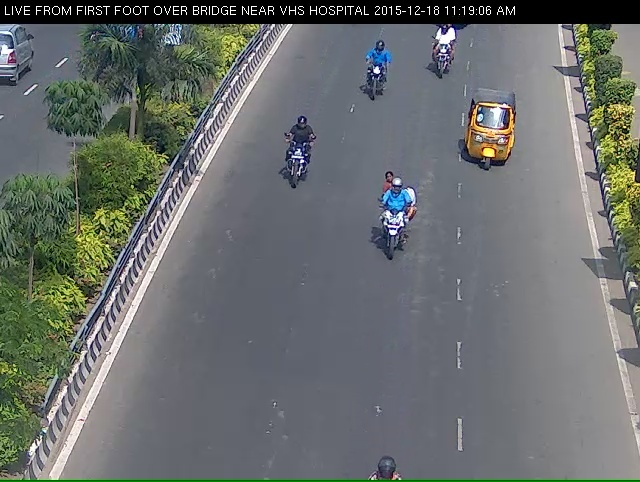Auto: (459, 90, 522, 183)
Person: (371, 187, 418, 285), (274, 129, 315, 208), (354, 44, 391, 113), (425, 26, 456, 89)
